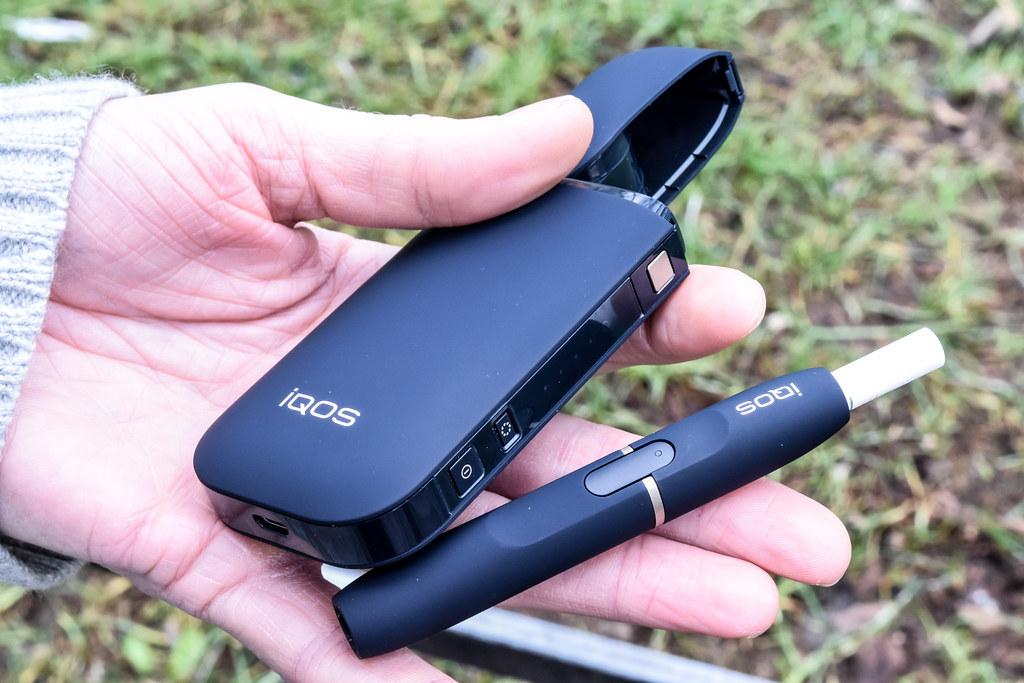iqos: (334, 331, 942, 657)
